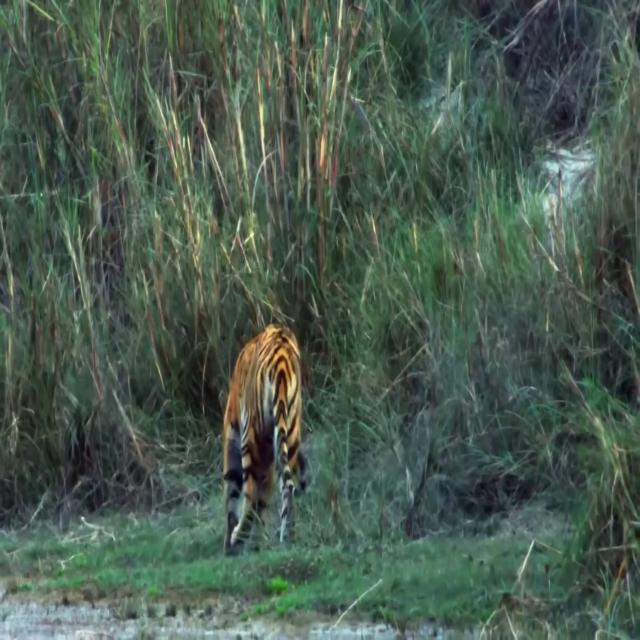tiger: (221, 320, 313, 557)
